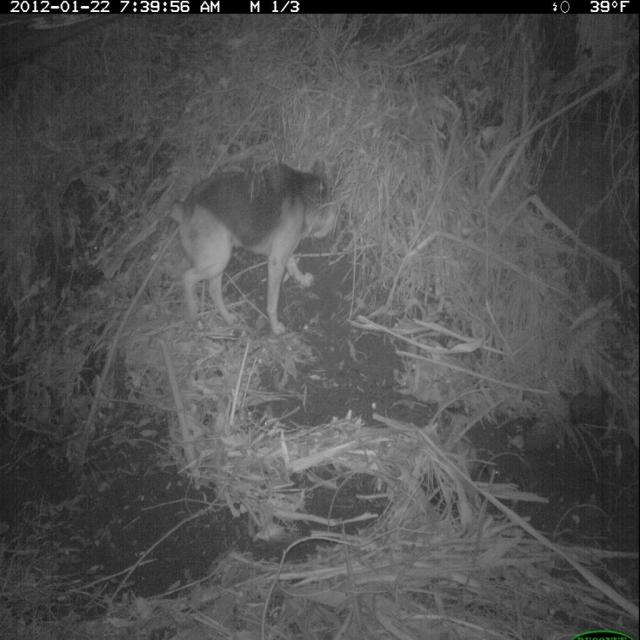dog: (164, 152, 347, 339)
